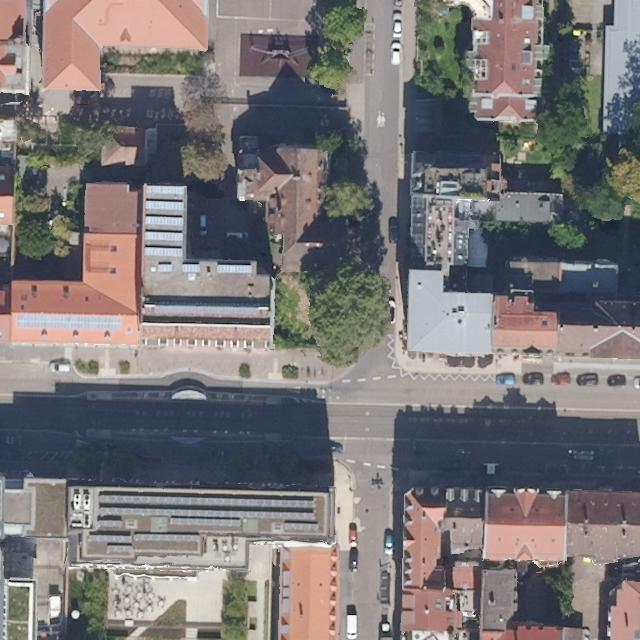PV: (97, 492, 324, 513), (98, 506, 316, 525), (15, 314, 121, 330), (144, 216, 184, 231), (144, 185, 186, 199), (145, 200, 185, 211), (216, 264, 252, 273), (98, 518, 124, 529), (107, 544, 133, 553), (157, 263, 172, 271)
